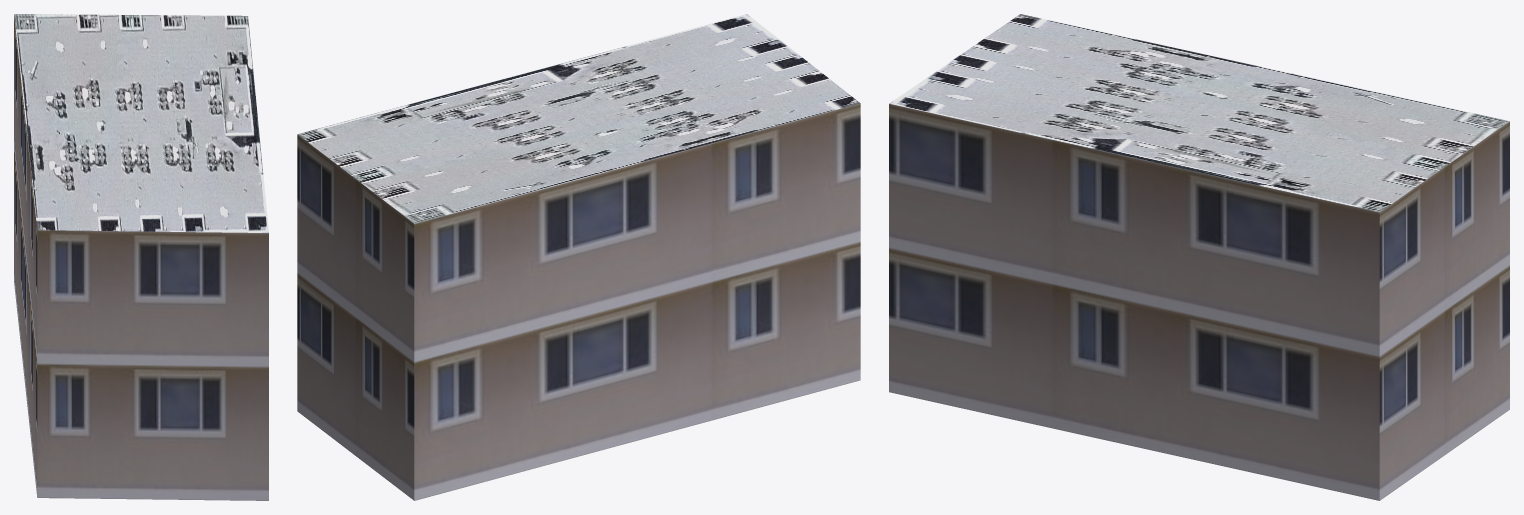
The model's file is ResTex__543.fbx.
3 renders of one model, left to right at view 1: azimuth 30°, elevation 25°; view 2: azimuth 150°, elevation 25°; view 3: azimuth 270°, elevation 25°, orthographic. The views are drawn at different scales.
Visible parts, largest first — view 1: CityEngineMaterial_21_m, CityEngineMaterial_4_m; view 2: CityEngineMaterial_21_m, CityEngineMaterial_4_m; view 3: CityEngineMaterial_21_m, CityEngineMaterial_4_m.
Boxes of the visible parts, left/top/right/bottom form: CityEngineMaterial_21_m: left=14, top=15, right=268, bottom=500; CityEngineMaterial_4_m: left=14, top=14, right=268, bottom=232; CityEngineMaterial_21_m: left=297, top=103, right=860, bottom=500; CityEngineMaterial_4_m: left=297, top=14, right=860, bottom=223; CityEngineMaterial_21_m: left=889, top=103, right=1509, bottom=500; CityEngineMaterial_4_m: left=889, top=14, right=1509, bottom=212.
Bounding box in the file's own units: 8.85 × 6 × 11.7.
Materials: 2 (2 with a texture image).
